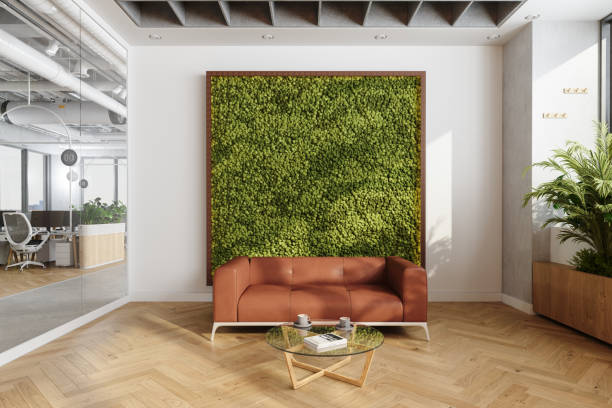chair: (1, 209, 52, 272)
large plant: (527, 128, 612, 278)
sofa: (209, 253, 431, 344)
table: (267, 312, 385, 392)
